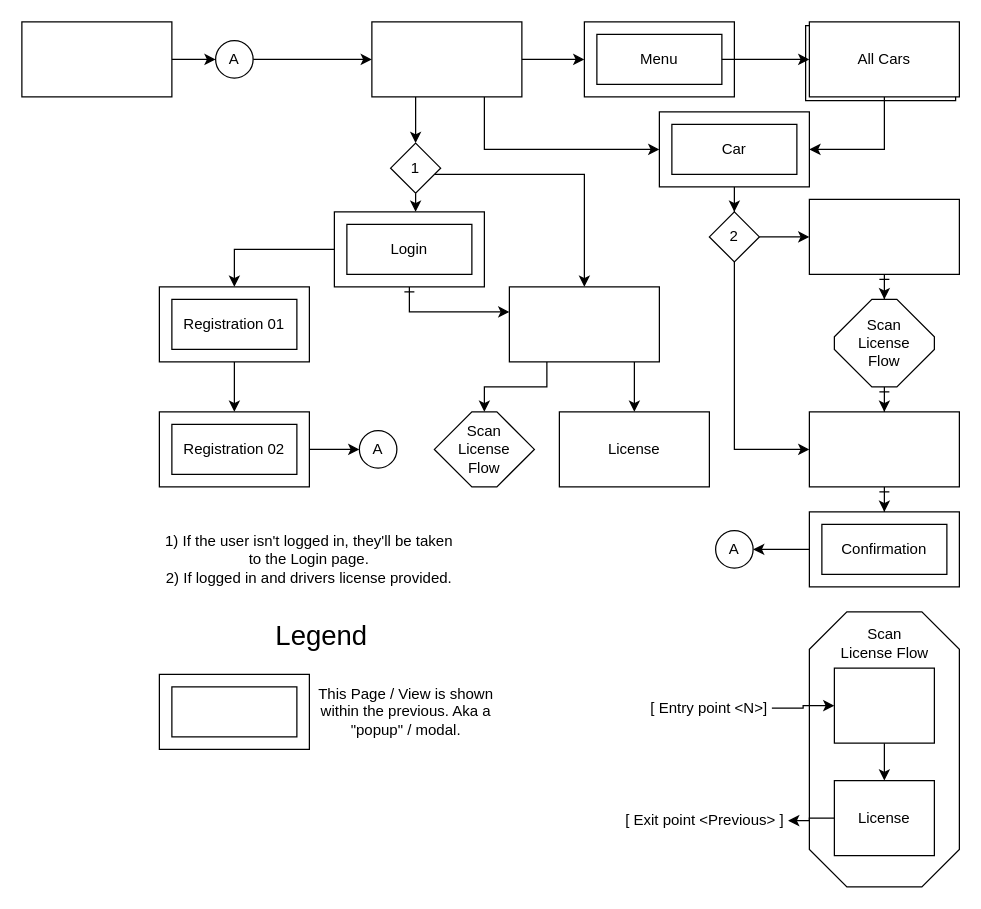
This 981x909 diagram has some shape labels left out. The centre of each missing label's shape, as x and y in pixels:
Camera: the point at 883,705
Home: the point at 446,59
Payment 01: the point at 883,236
Payment 02: the point at 883,449
Profile: the point at 583,324
Splash: the point at 96,59
